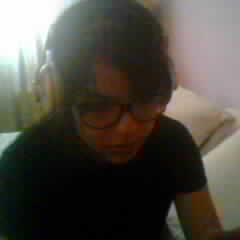without_mask: (73, 64, 161, 168)
